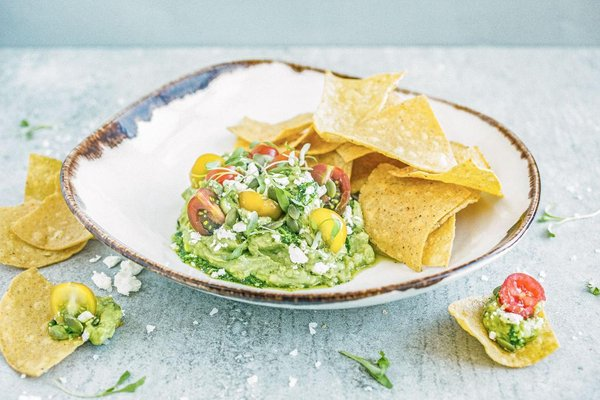soup: (357, 161, 486, 272)
sushi: (60, 52, 537, 305)
